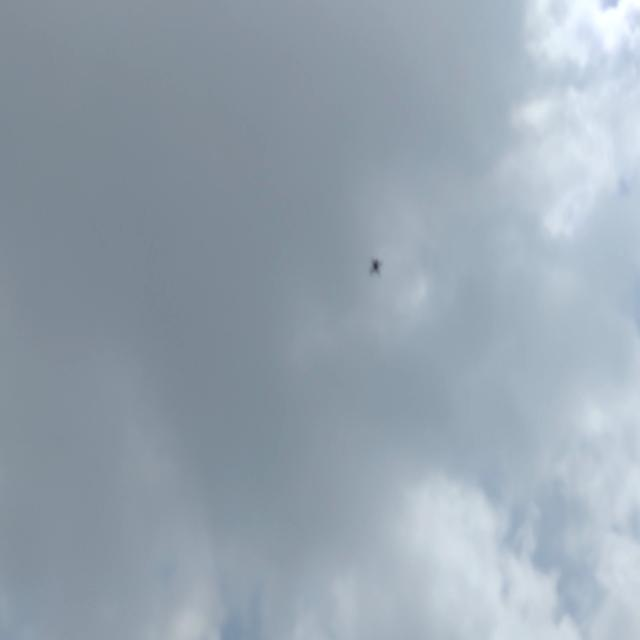drone: (366, 247, 388, 287)
